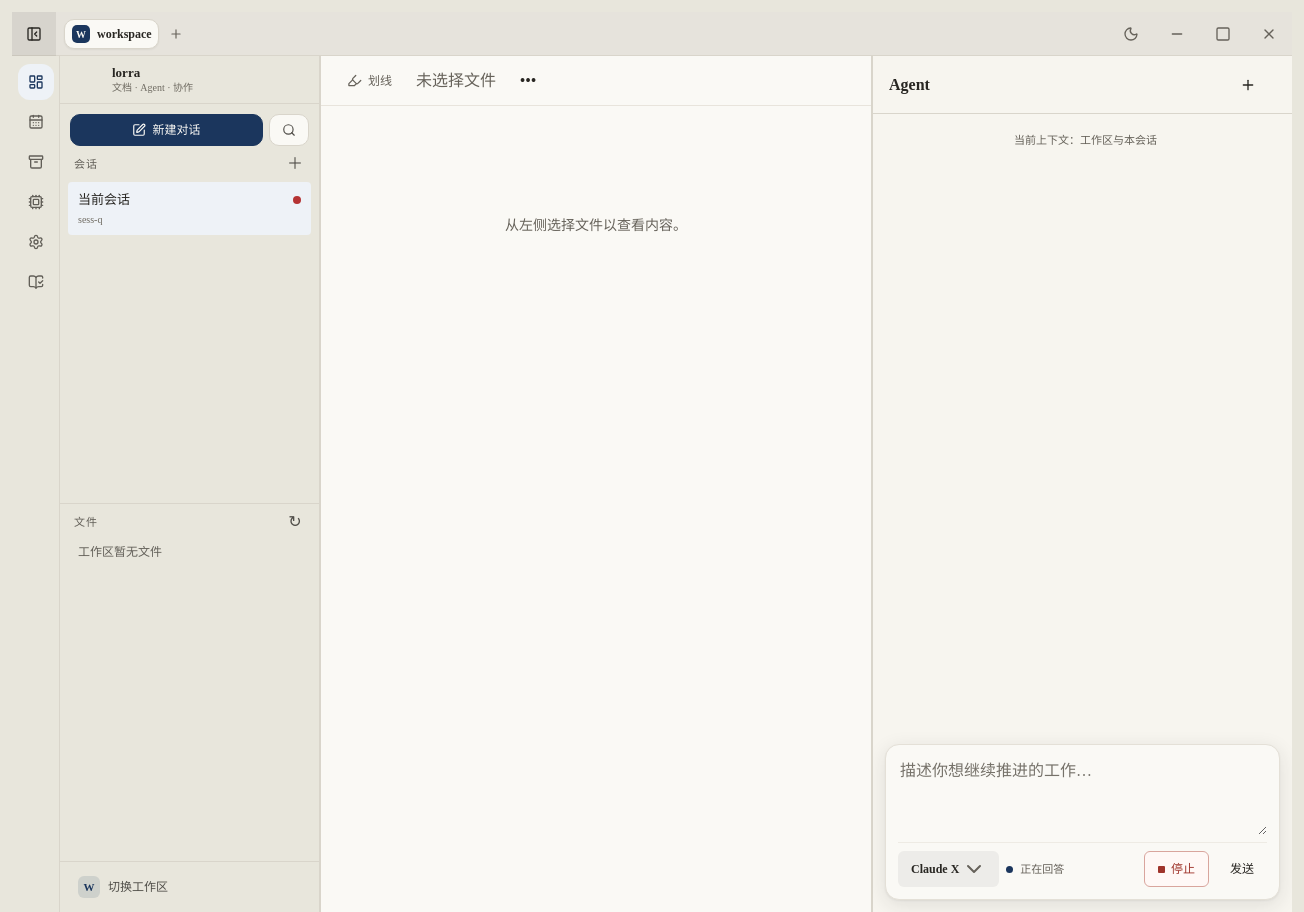
Test: 消息队列(App 集成) › 撤回:busy 时入队 → 点撤回 → 队列移除、空闲后不发
Expected: the element named "Agent 对话" is shown, [872,56,1292,911]
Expected: the button "停止" is shown, [1144,851,1209,887]
Type "说错的话" into the text box named "向 Agent 提问" at {"x": 1082, "y": 796}, box [898,757,1267,835]
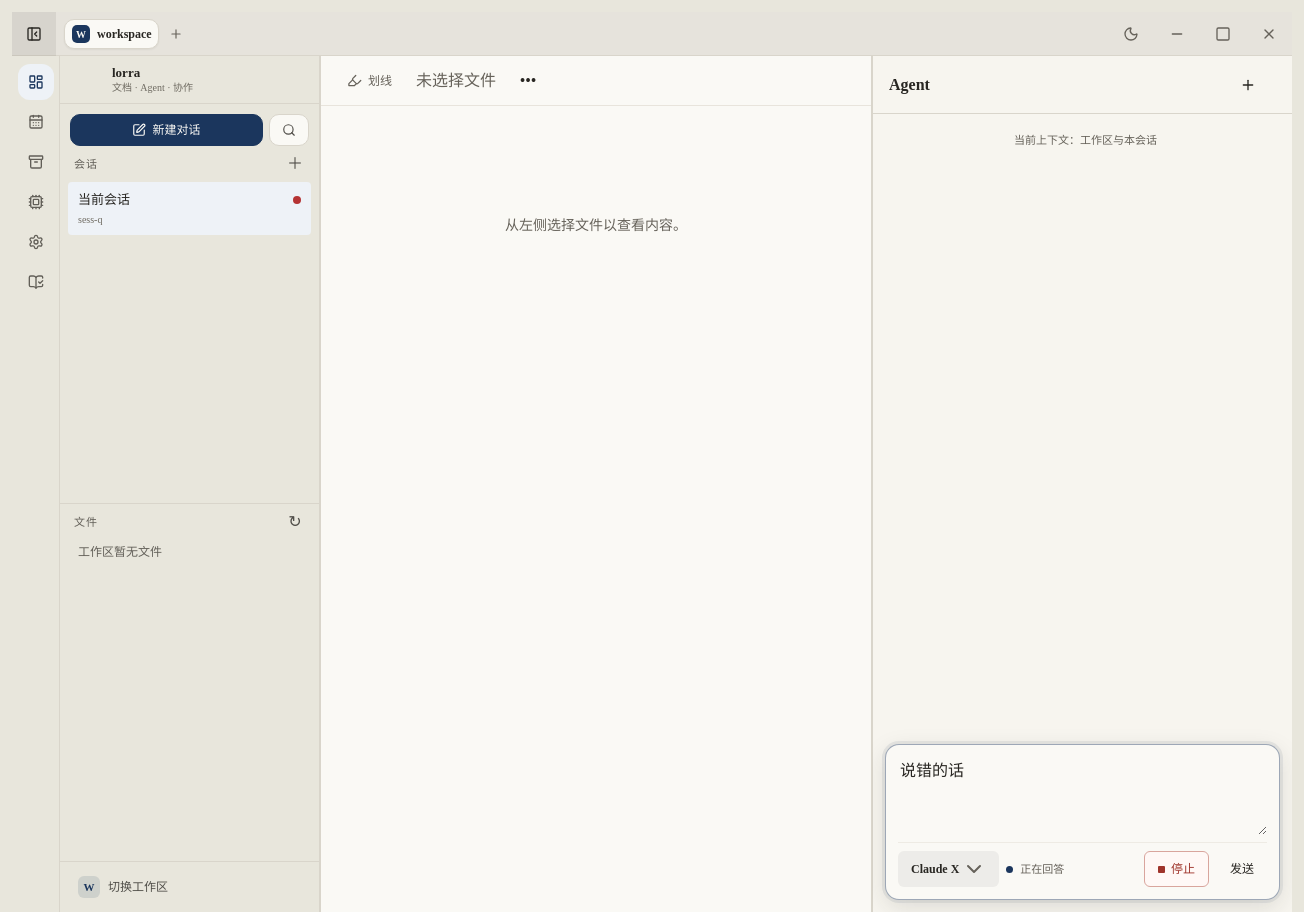
Click the button "发送" at {"x": 1242, "y": 869}, box [1217,851,1267,887]
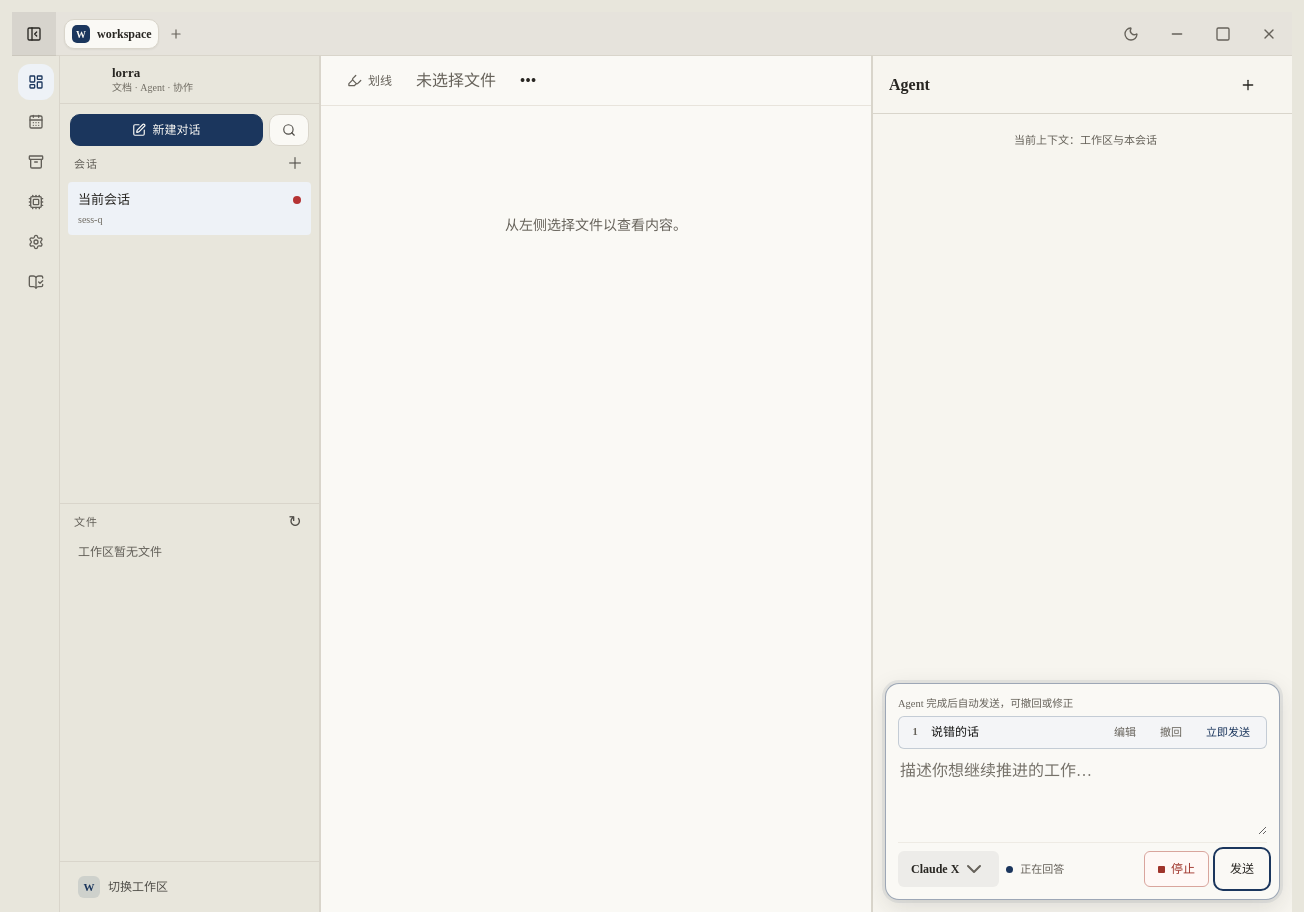
Now the text "说错的话" is shown, box [931,725,979,739]
Click the button "撤回" at {"x": 1171, "y": 732}, box [1152,722,1190,743]
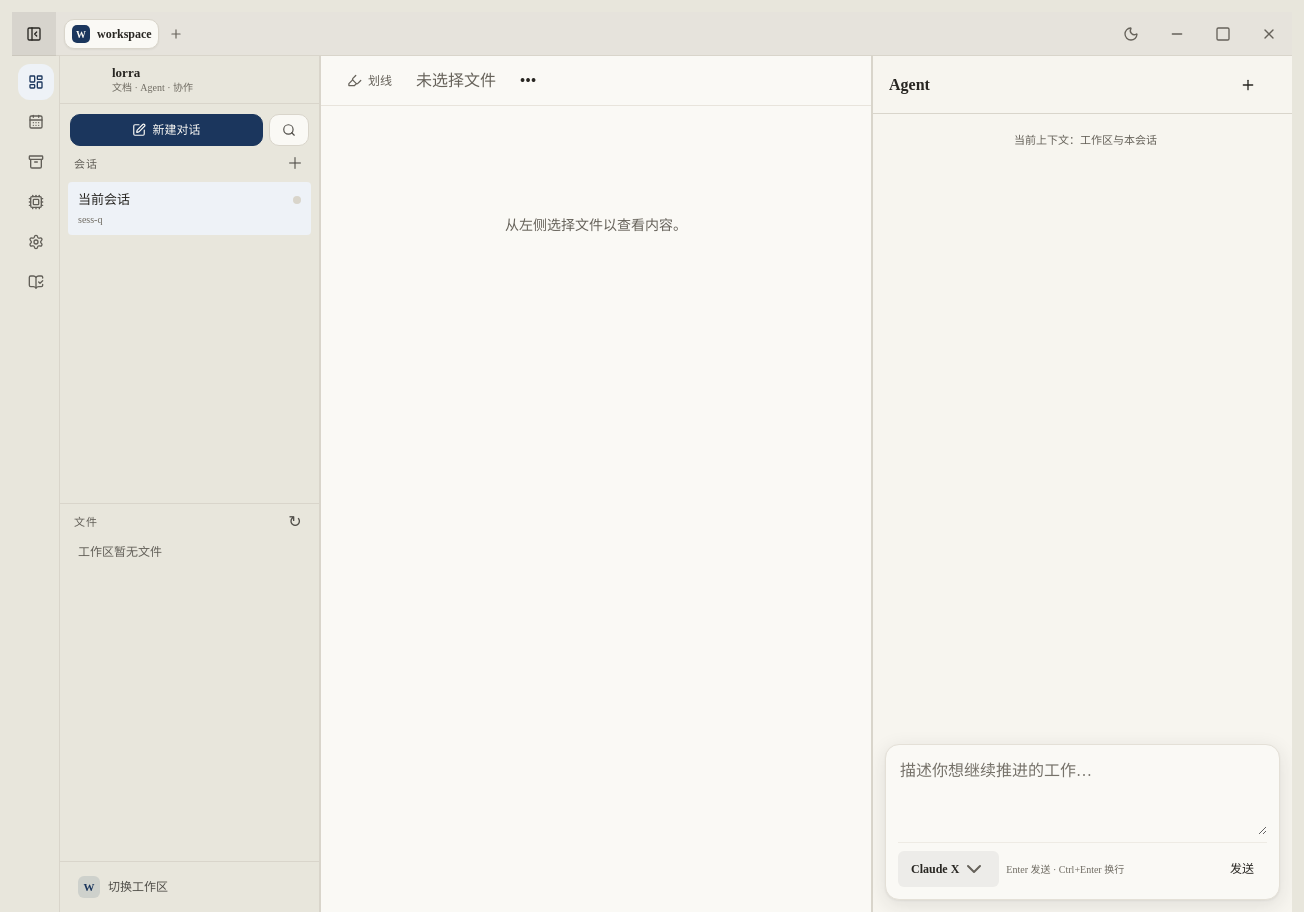
Now the text "说错的话" is gone
